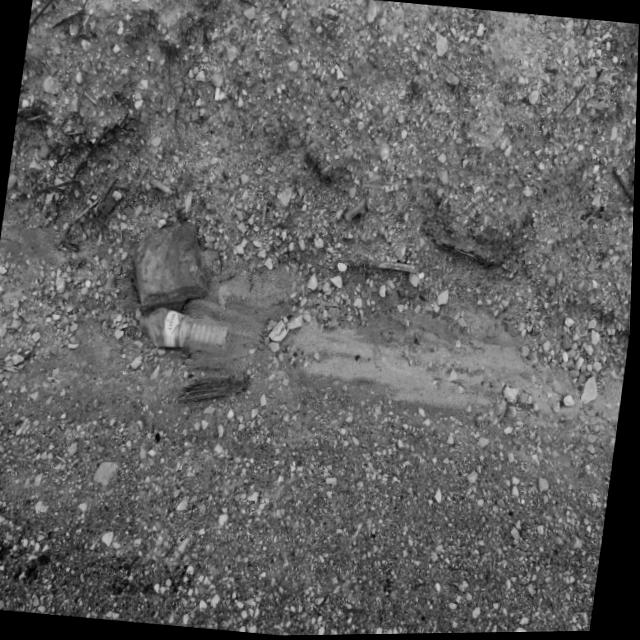Plastic: (128, 297, 244, 365)
